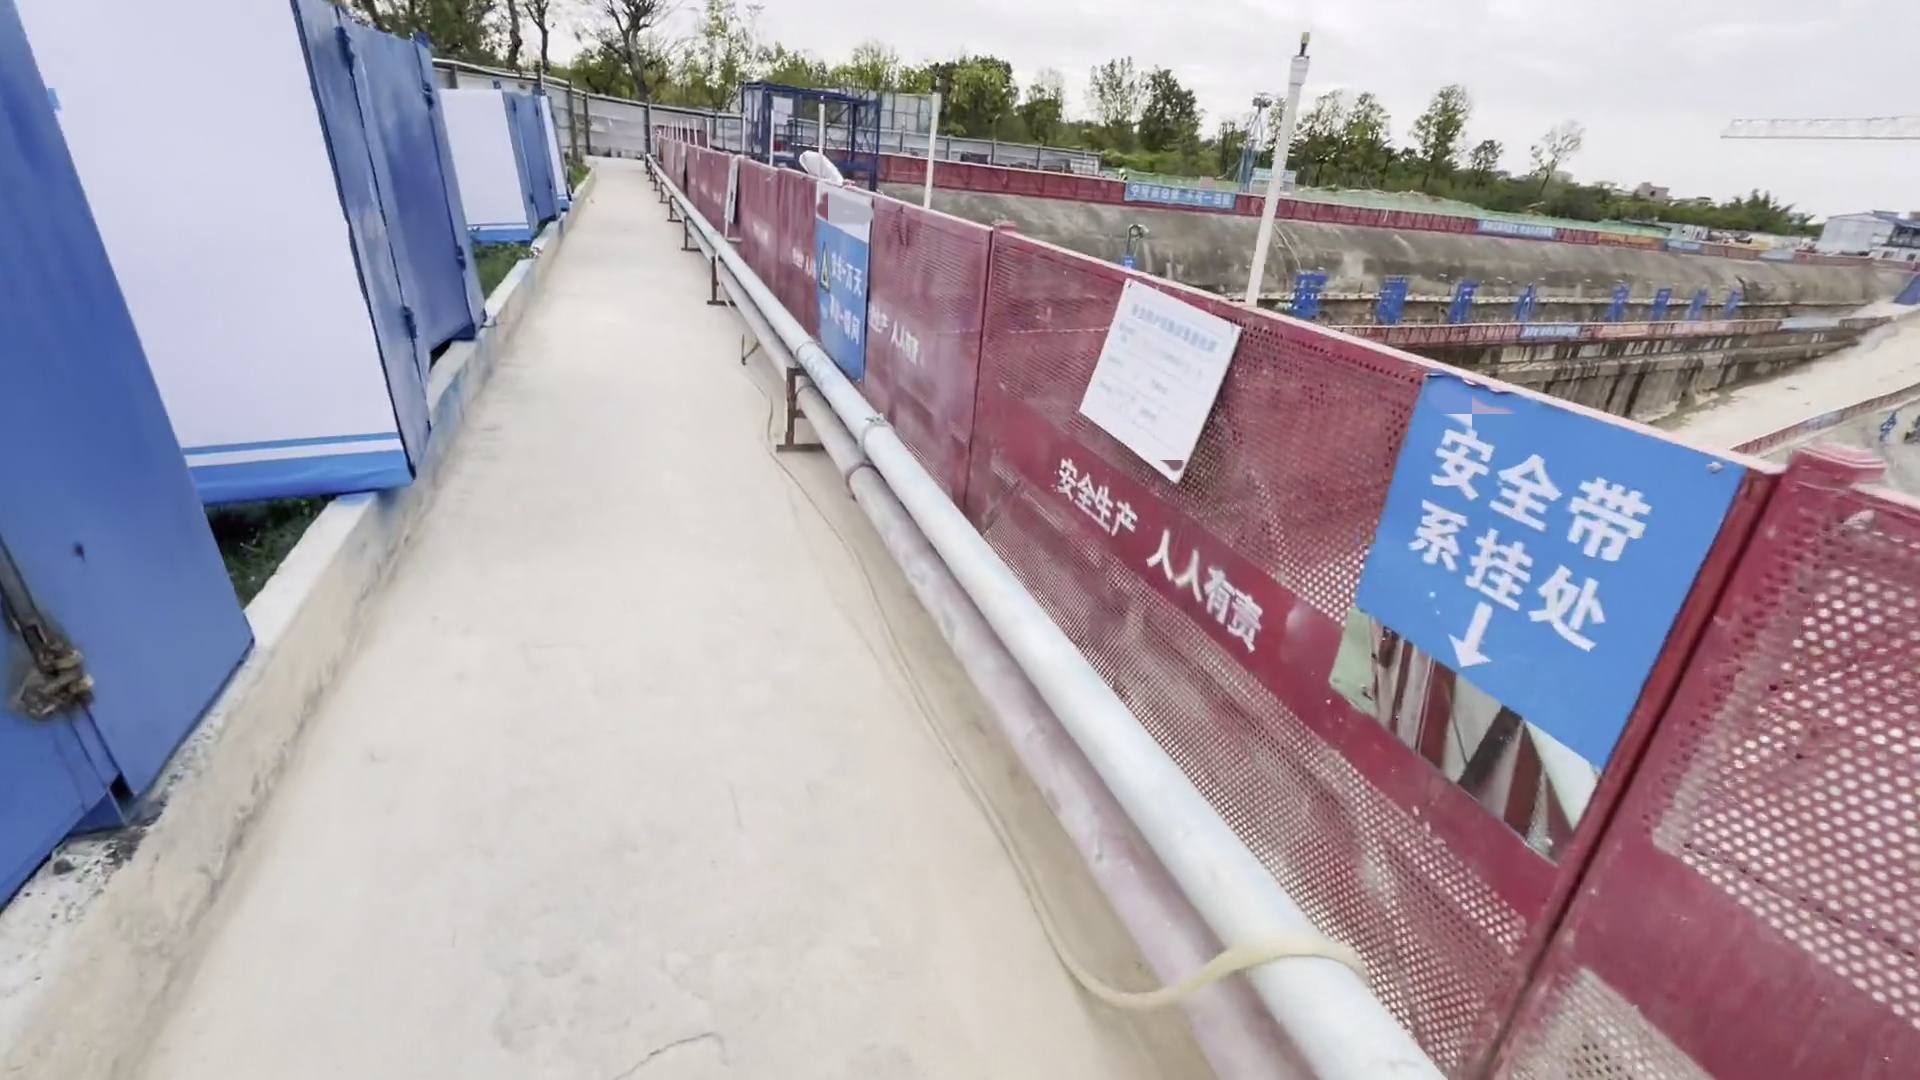fence: (676, 153, 1915, 1080)
slogan: (808, 195, 886, 386)
